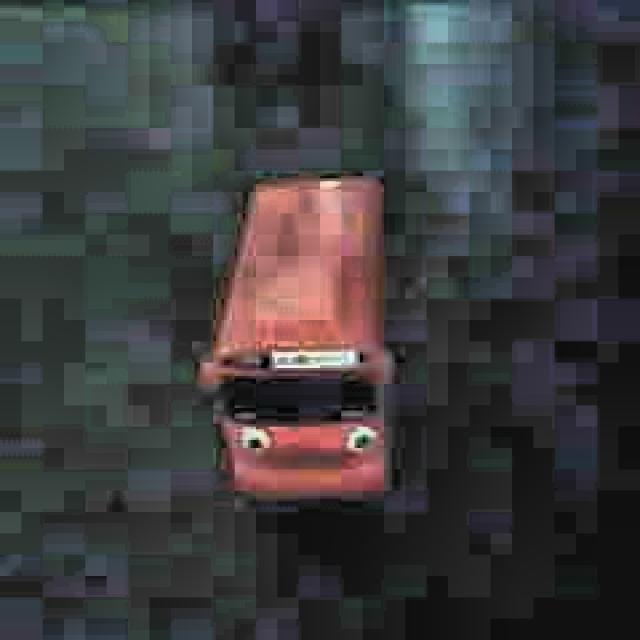bus: (186, 165, 403, 510)
